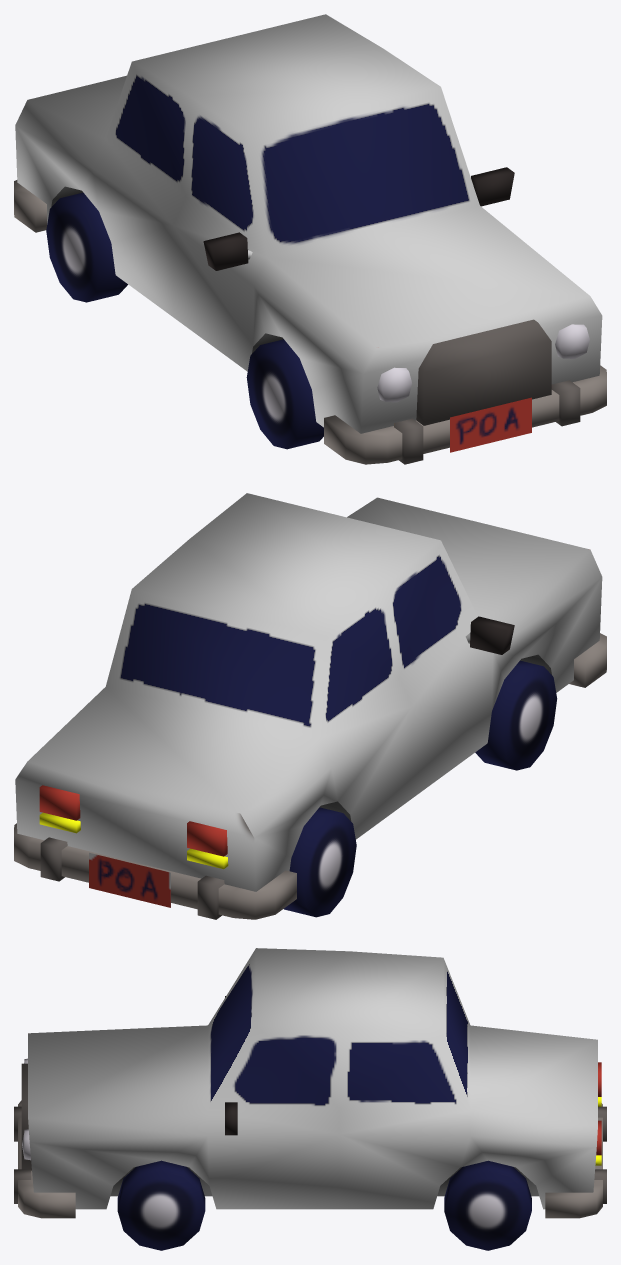
The model's file is CGenerico_4.glb.
3 views of the same model, one above another, from view 1: azimuth 30°, elevation 25°; view 2: azimuth 150°, elevation 25°; view 3: azimuth 270°, elevation 25° (orthographic). The views are drawn at different scales.
Parts seen in each view (by area): view 1: Generico; view 2: Generico; view 3: Generico.
Boxes of the visible parts, x1,y1,x2,y2 form: Generico: (14,14,606,464); Generico: (14,493,606,919); Generico: (14,948,606,1250).
Bounding box in the file's own units: 2.85 × 2.35 × 5.92.
Materials: 1 (1 with a texture image).
